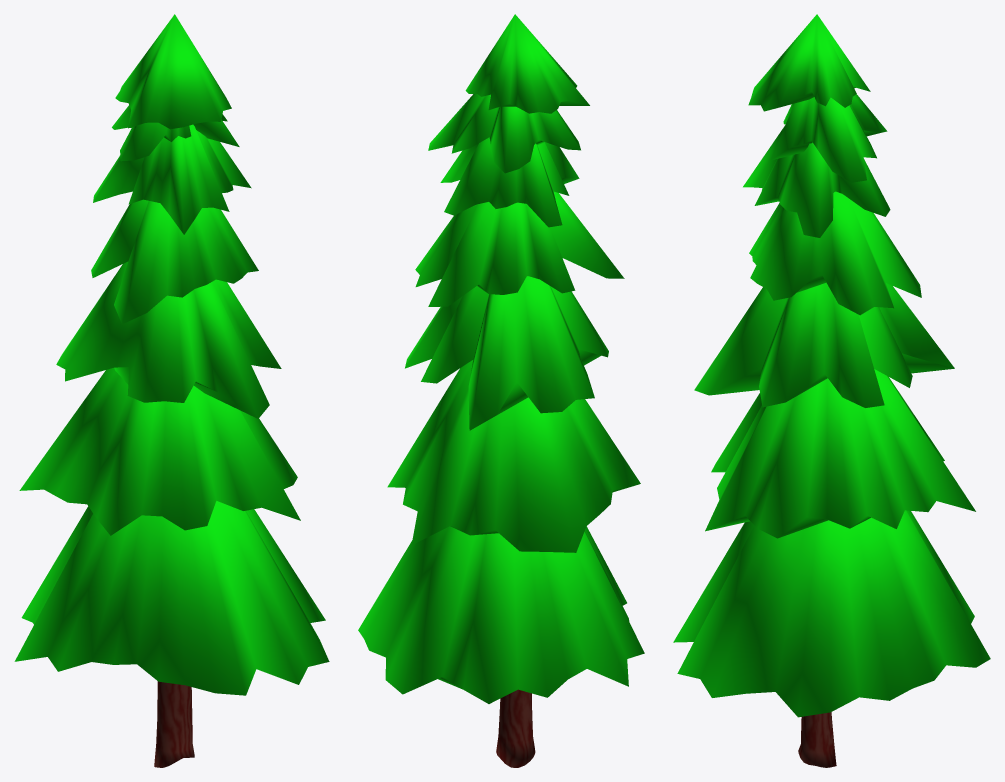
The model's file is SnowSpruce.fbx.
3 renders of one model, left to right at view 1: azimuth 30°, elevation 25°; view 2: azimuth 150°, elevation 25°; view 3: azimuth 270°, elevation 25°, orthographic.
Parts seen in each view (by area): view 1: Spruce2; view 2: Spruce2; view 3: Spruce2.
Boxes of the visible parts, x1=… form: Spruce2: x1=14, y1=14, x2=329, y2=767; Spruce2: x1=358, y1=14, x2=644, y2=767; Spruce2: x1=673, y1=14, x2=990, y2=767.
Bounding box in the file's own units: 283 × 731 × 279.
